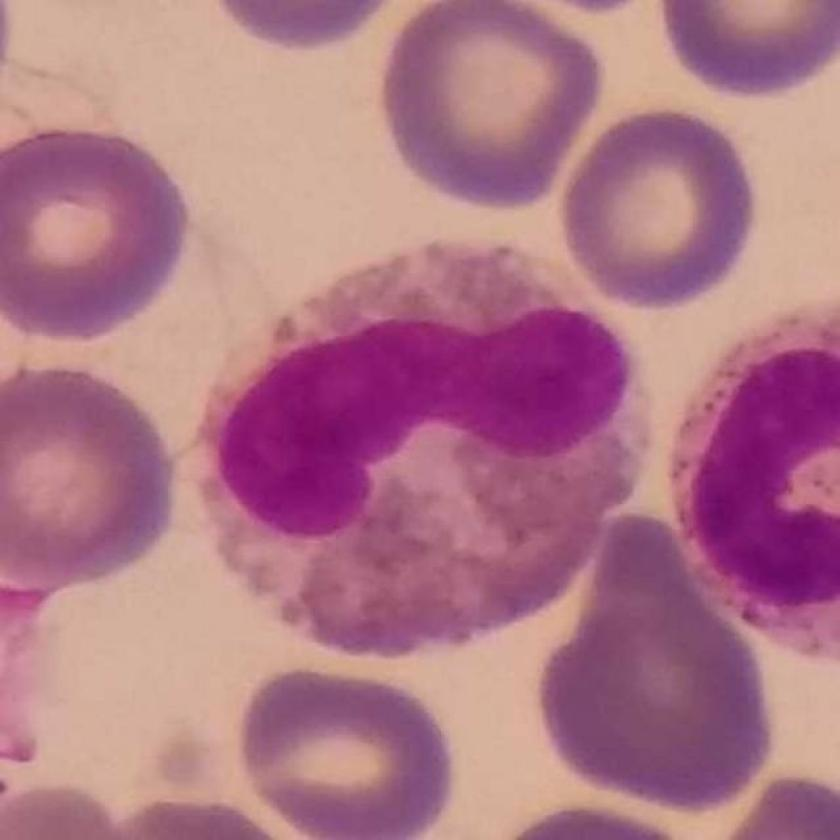eosinophil: (186, 223, 642, 689), (673, 239, 840, 696)
